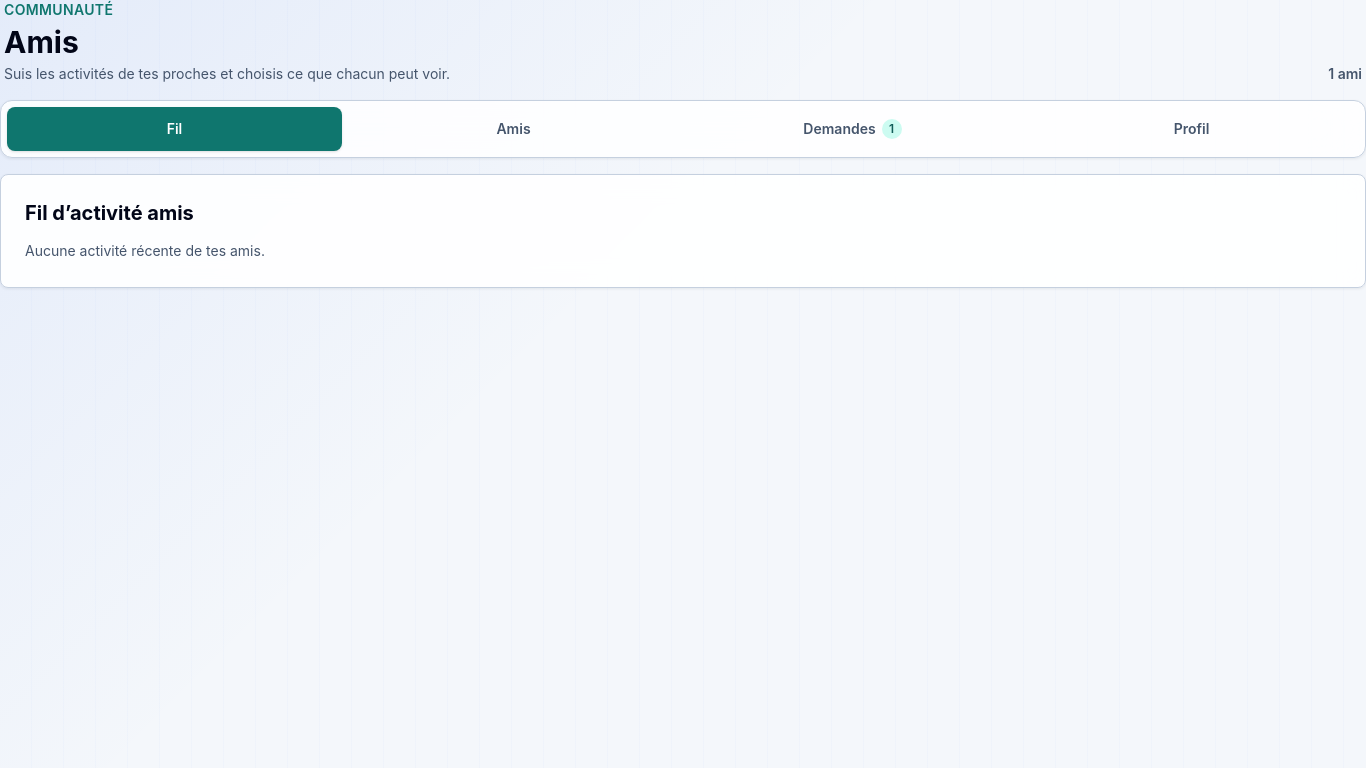
Test: FriendsPrivacyPage › enregistre un handle public valide en sauvegarde locale sans cloud réel
Click the button with aria-label "Mon profil social" at [1192, 129], box top-left (1024, 107), bottom-right (1359, 151)
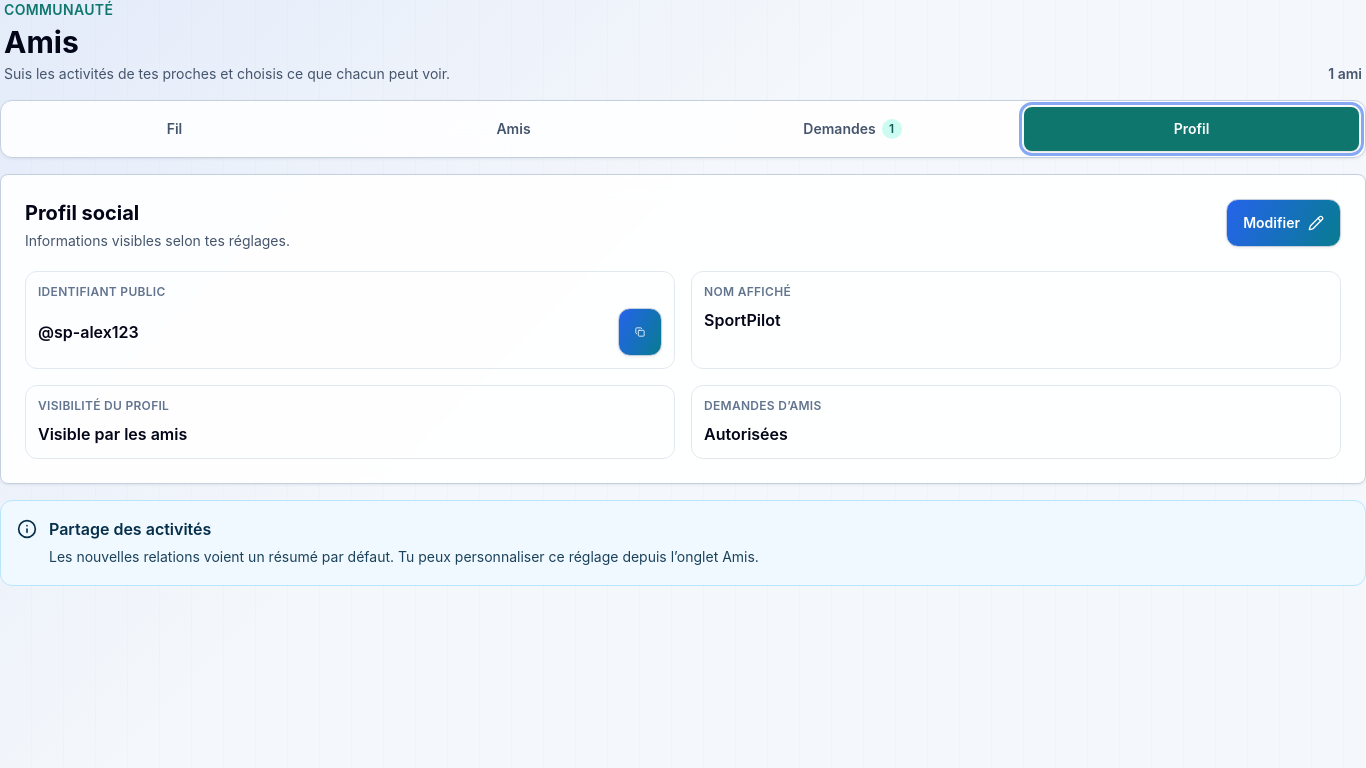
Click the button with aria-label "Modifier le profil public" at [1284, 223], box top-left (1226, 199), bottom-right (1341, 247)
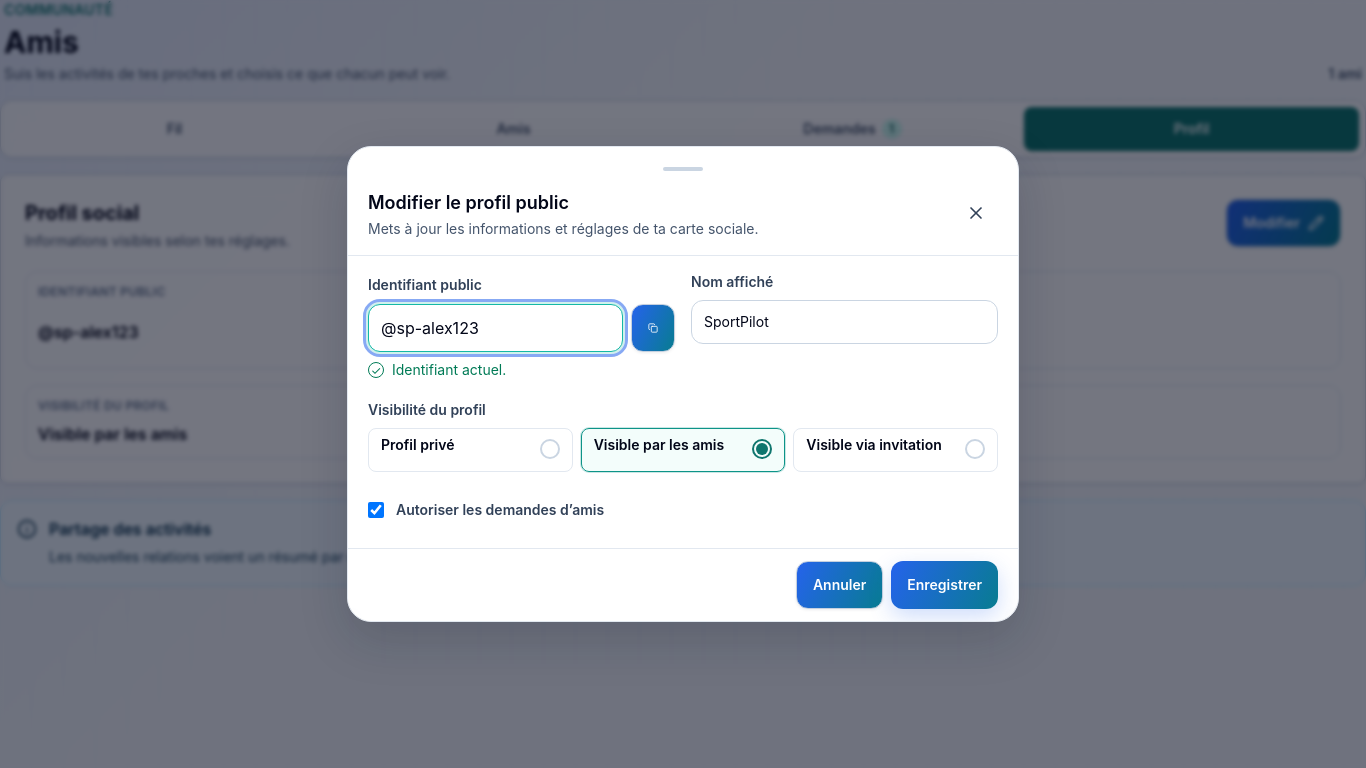
Clear the field labelled "Identifiant public" at [496, 328], box top-left (368, 304), bottom-right (623, 352)
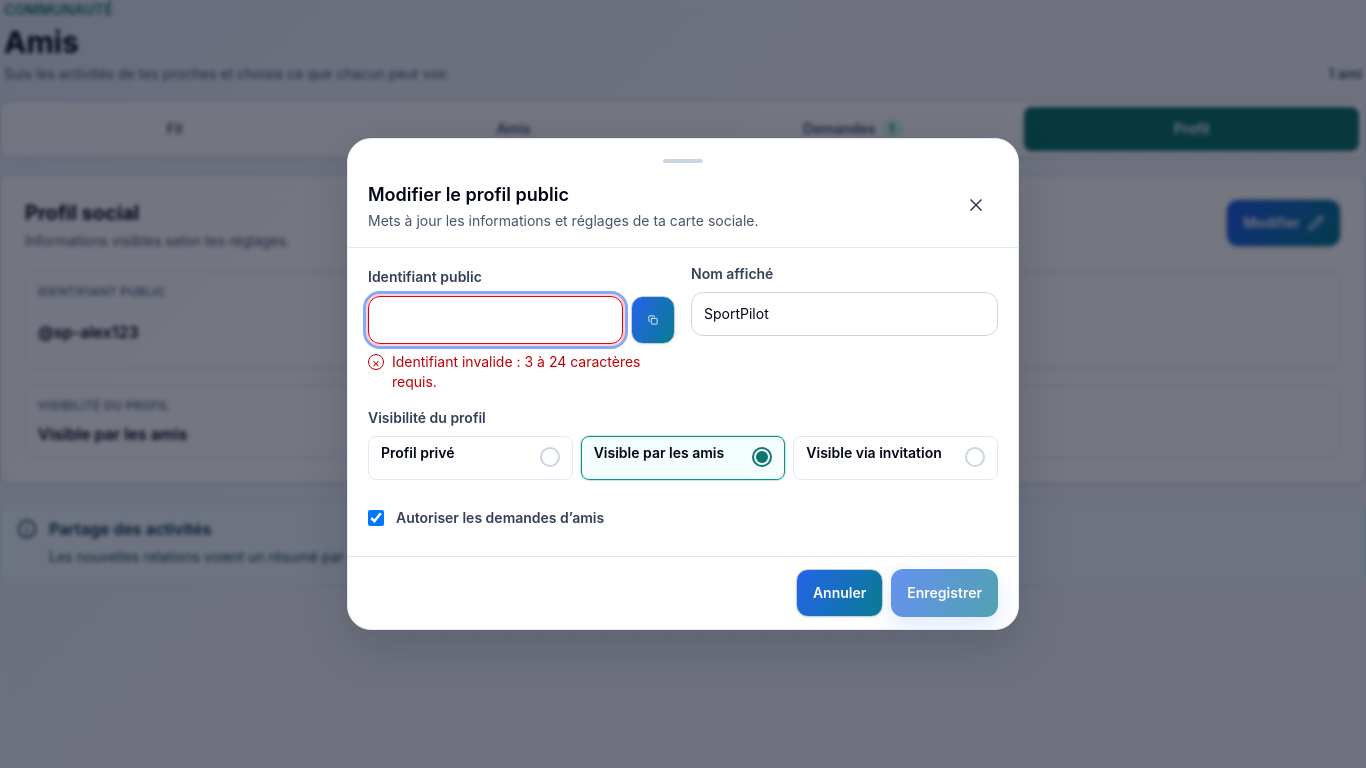
Type "@alex.run" into the field labelled "Identifiant public" at [496, 320], box top-left (368, 296), bottom-right (623, 344)
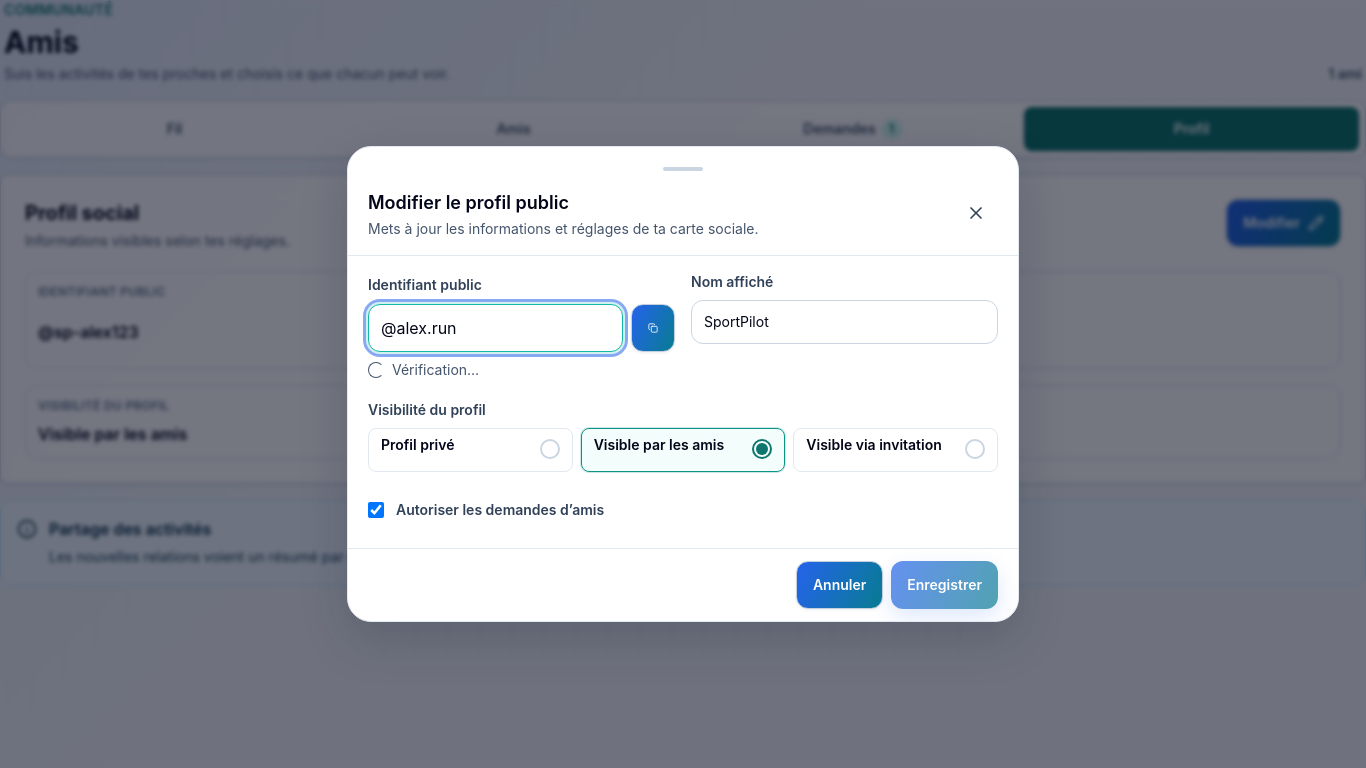
Replace the text in the field labelled "Nom affiché" with "Alex Run" at [844, 322], box top-left (691, 300), bottom-right (998, 344)
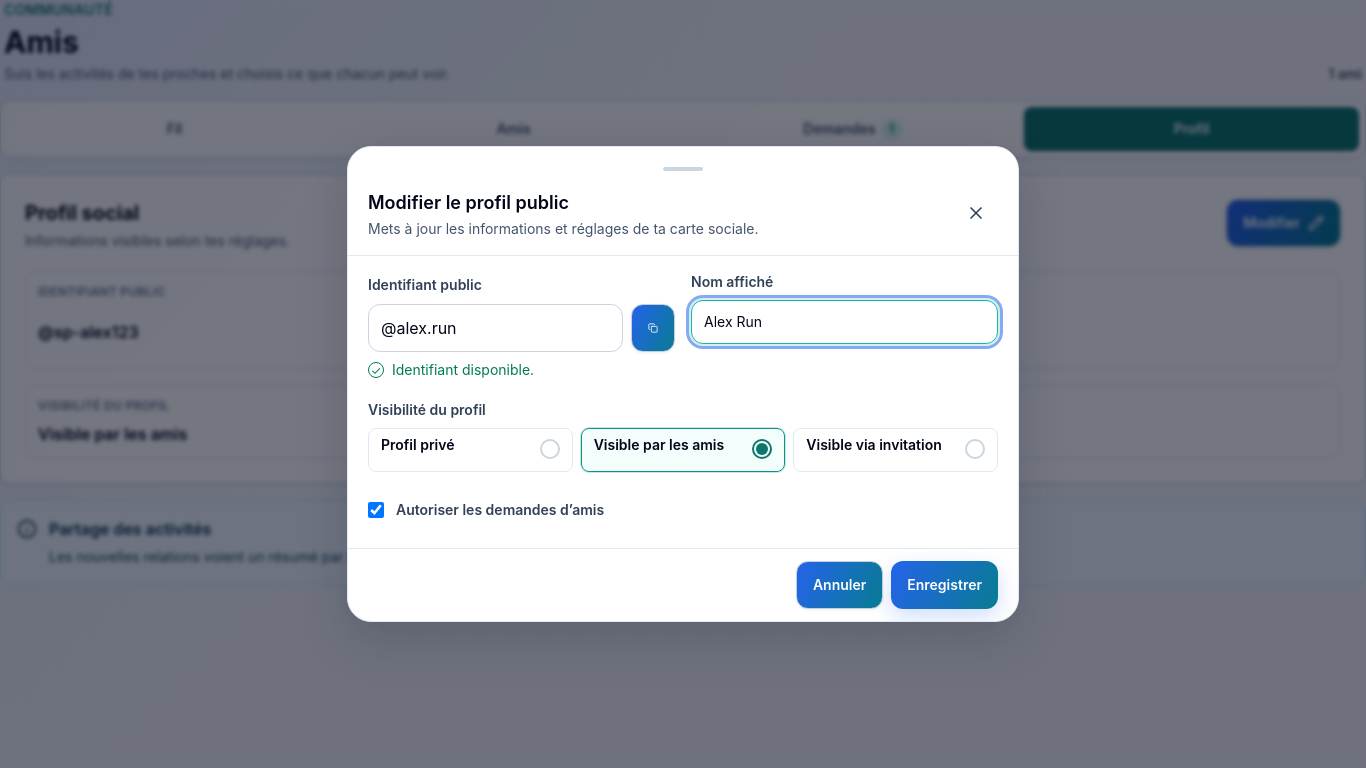
Check: the text "Identifiant disponible." is shown, box top-left (392, 360), bottom-right (534, 380)
Click the button "Enregistrer" at [945, 585], box top-left (891, 561), bottom-right (998, 609)
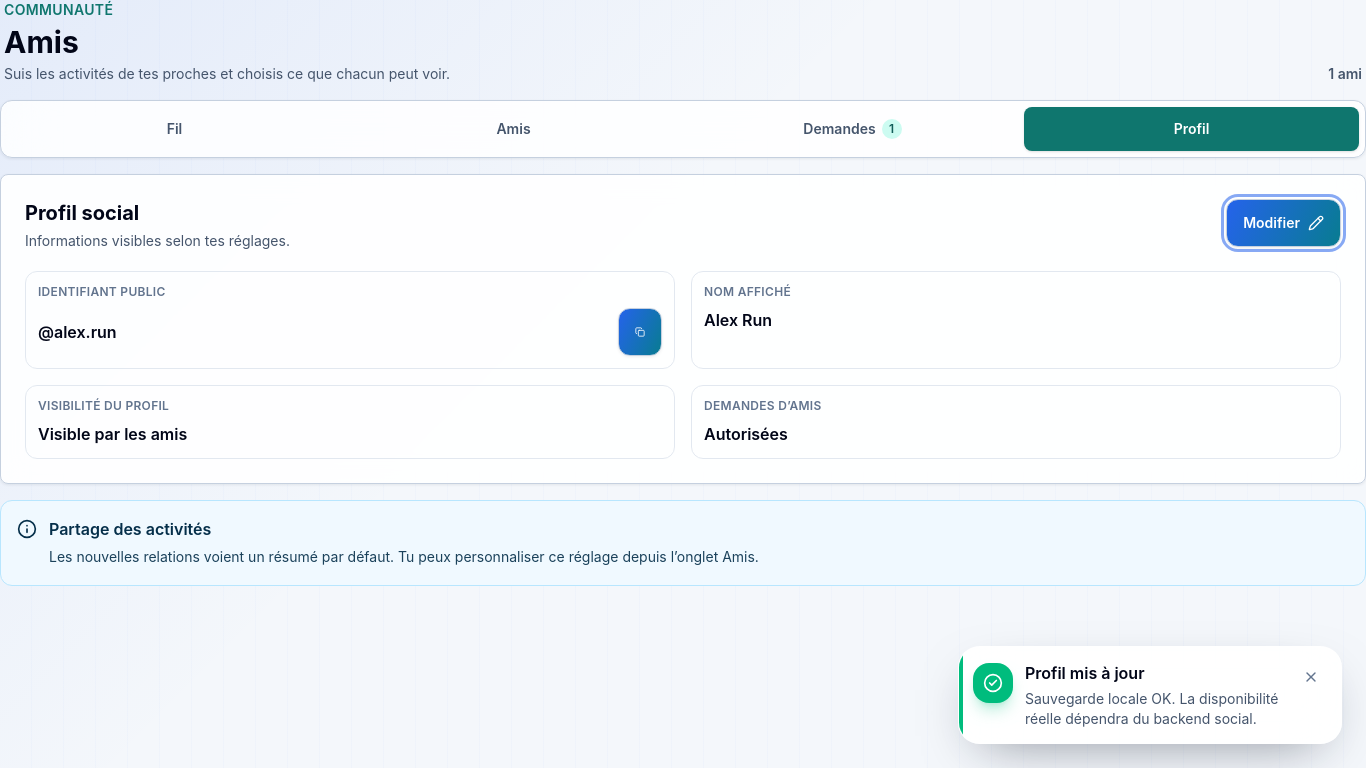
Check: the text "Sauvegarde locale OK" is shown, box top-left (1025, 690), bottom-right (1278, 727)
Check: the text "@alex.run" is shown, box top-left (38, 322), bottom-right (117, 342)
